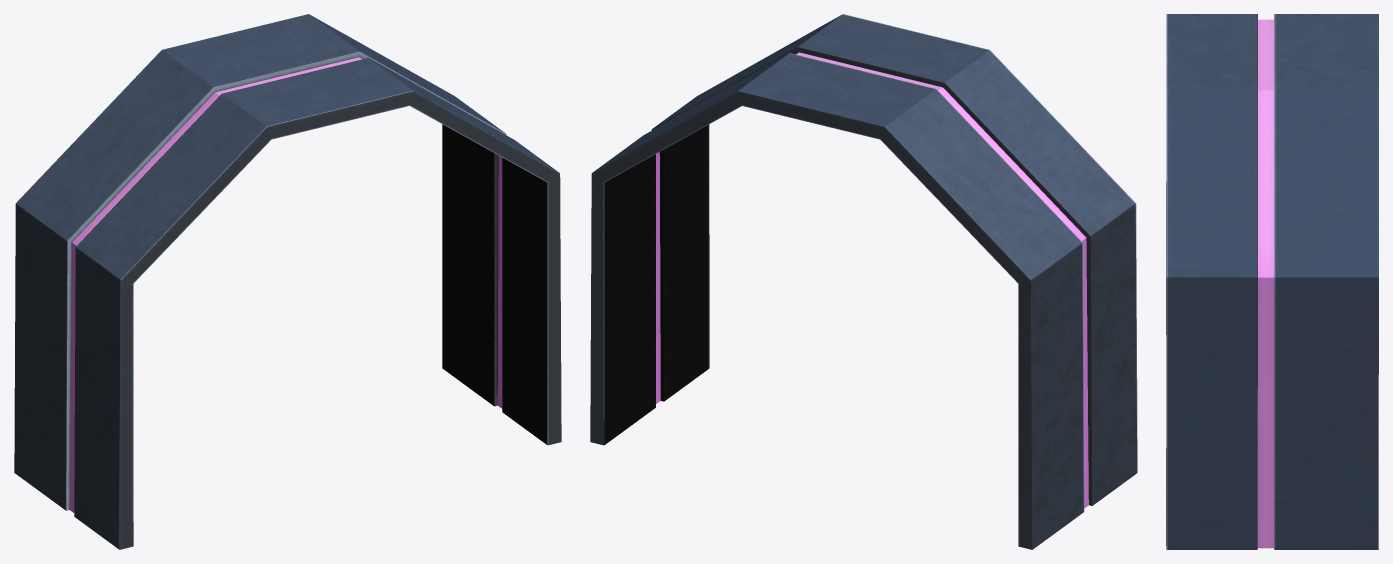
Rendered from EntranceDoor02_Art.glb.
3 views of the same model, side by side, from view 1: azimuth 30°, elevation 25°; view 2: azimuth 150°, elevation 25°; view 3: azimuth 270°, elevation 25° (orthographic).
Visible parts, largest first — view 1: EntranceDoor02_Art; view 2: EntranceDoor02_Art; view 3: EntranceDoor02_Art.
Boxes of the visible parts, x1,y1,x2,y2 form: EntranceDoor02_Art: (14,14,561,549); EntranceDoor02_Art: (590,14,1137,549); EntranceDoor02_Art: (1166,14,1378,549).
Bounding box in the file's own units: 5.71 × 4.77 × 2.36.
1 material, 1 textured.
